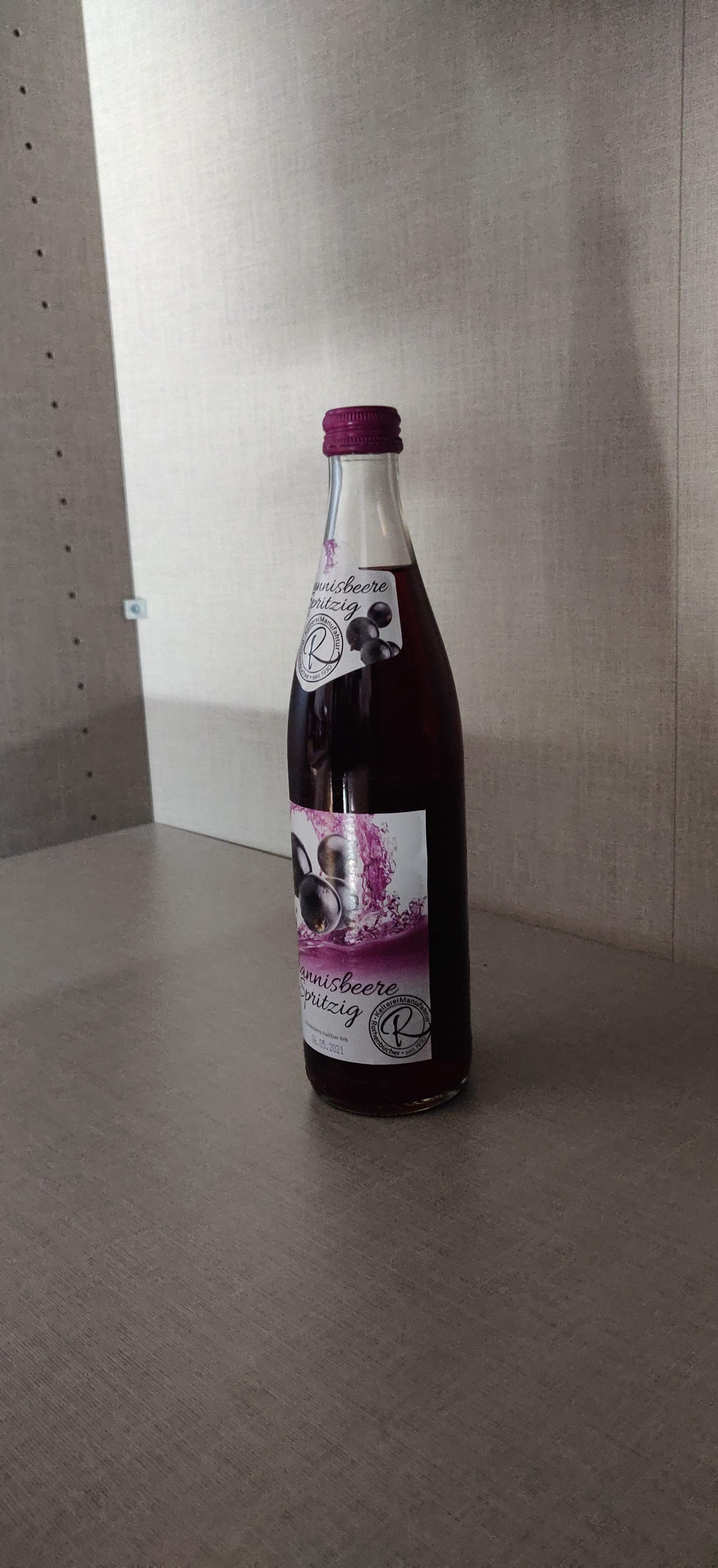bottle-glass: (283, 402, 472, 1115)
